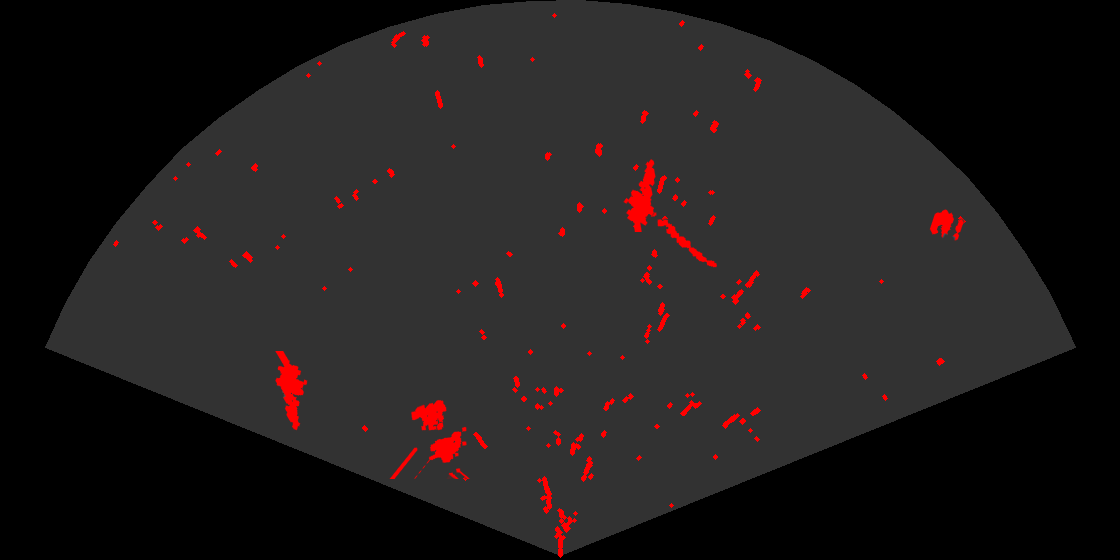ball: (928, 208, 965, 242)
cage: (389, 398, 471, 479)
chain: (639, 200, 719, 269)
frogman: (274, 351, 309, 432), (622, 157, 657, 232)
